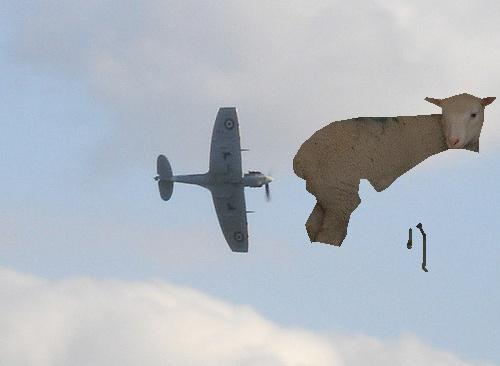tampered: (294, 94, 496, 272)
